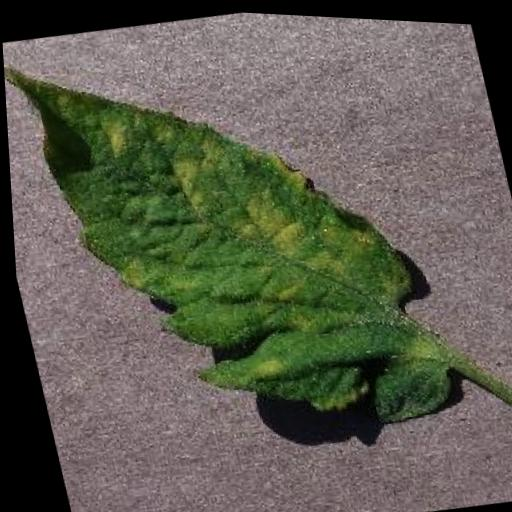Leaf Mold: (0, 0, 456, 470)
